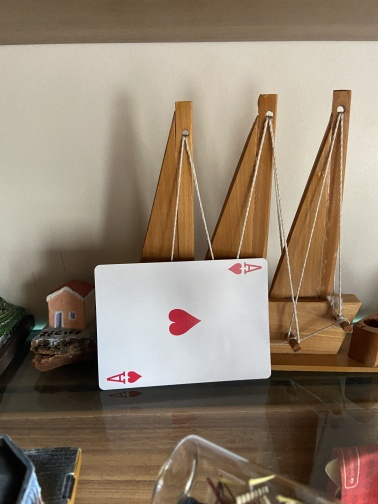ace: (93, 257, 273, 392)
